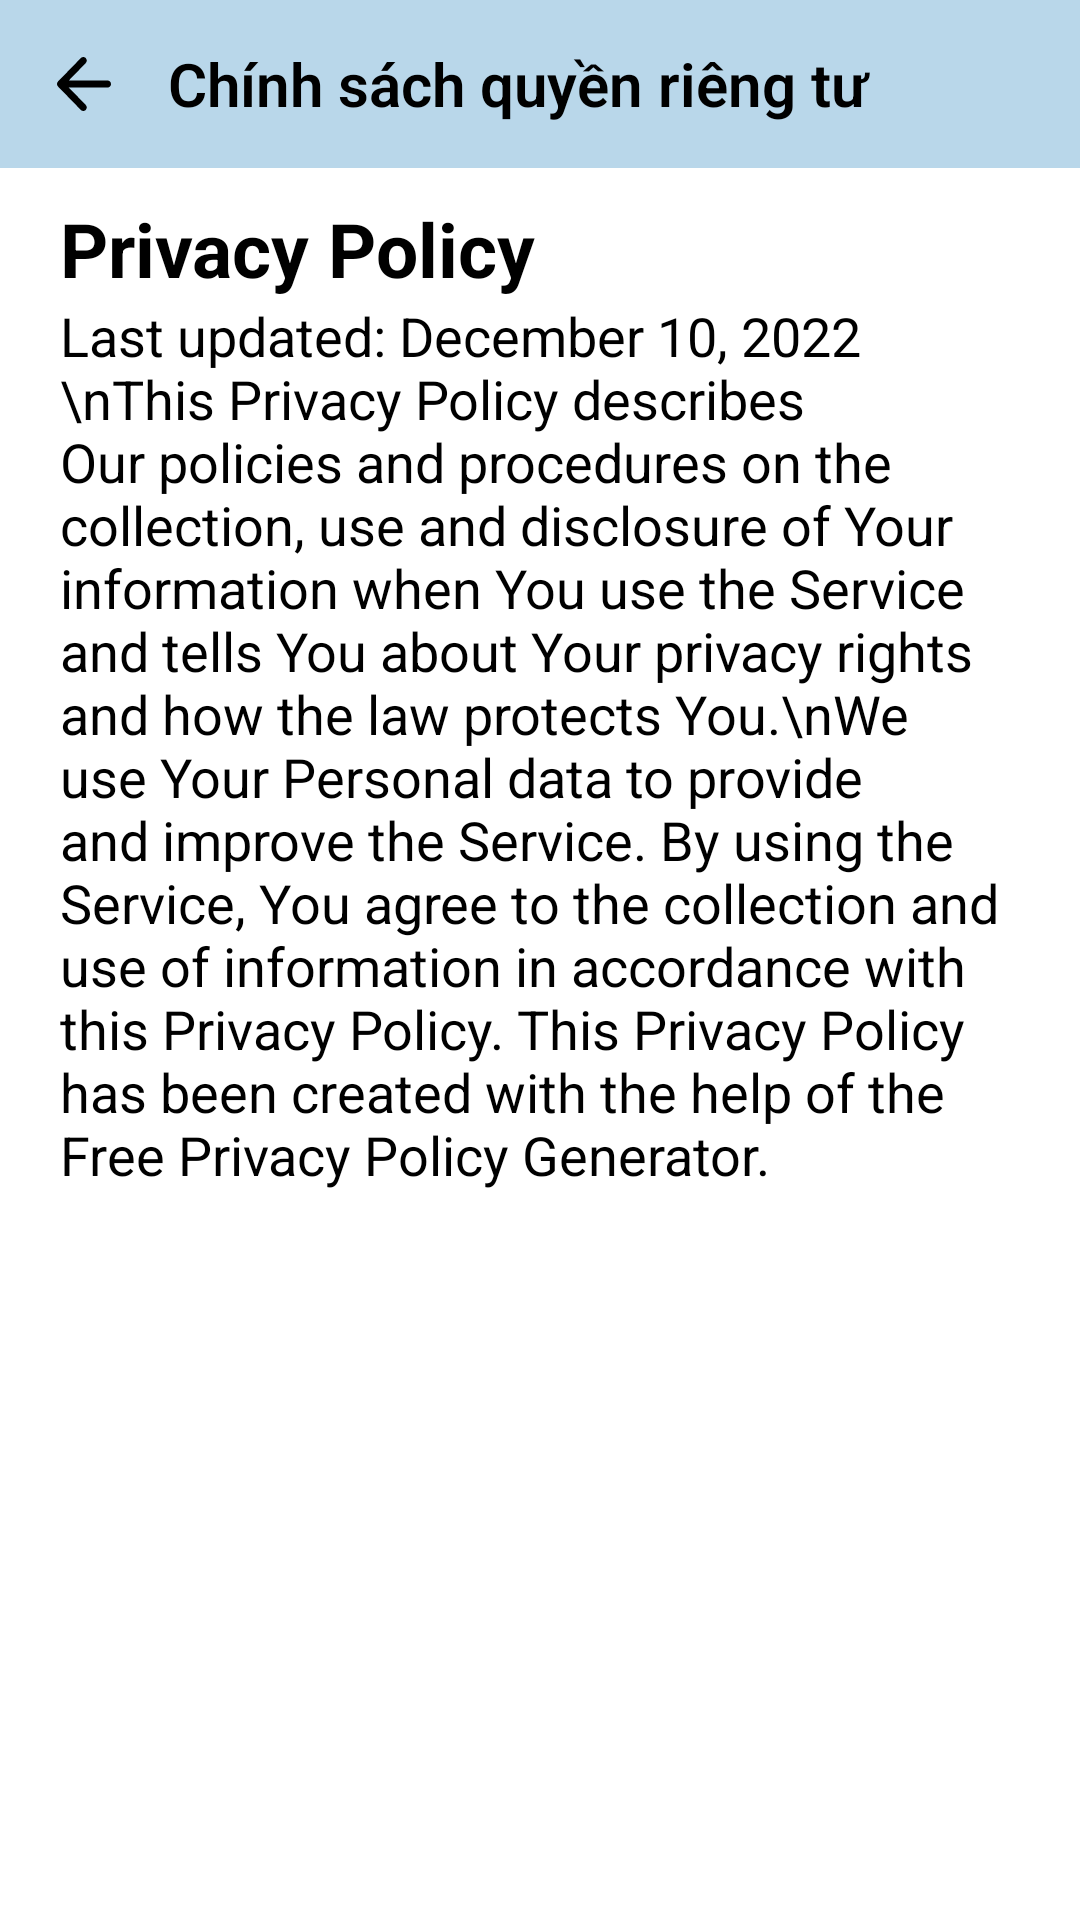

Icon bounding boxes for this 1080×1920 phone screenshot, format (left=x1, top=y1, right=x2, bottom=y2):
back: (left=57, top=57, right=111, bottom=111)
